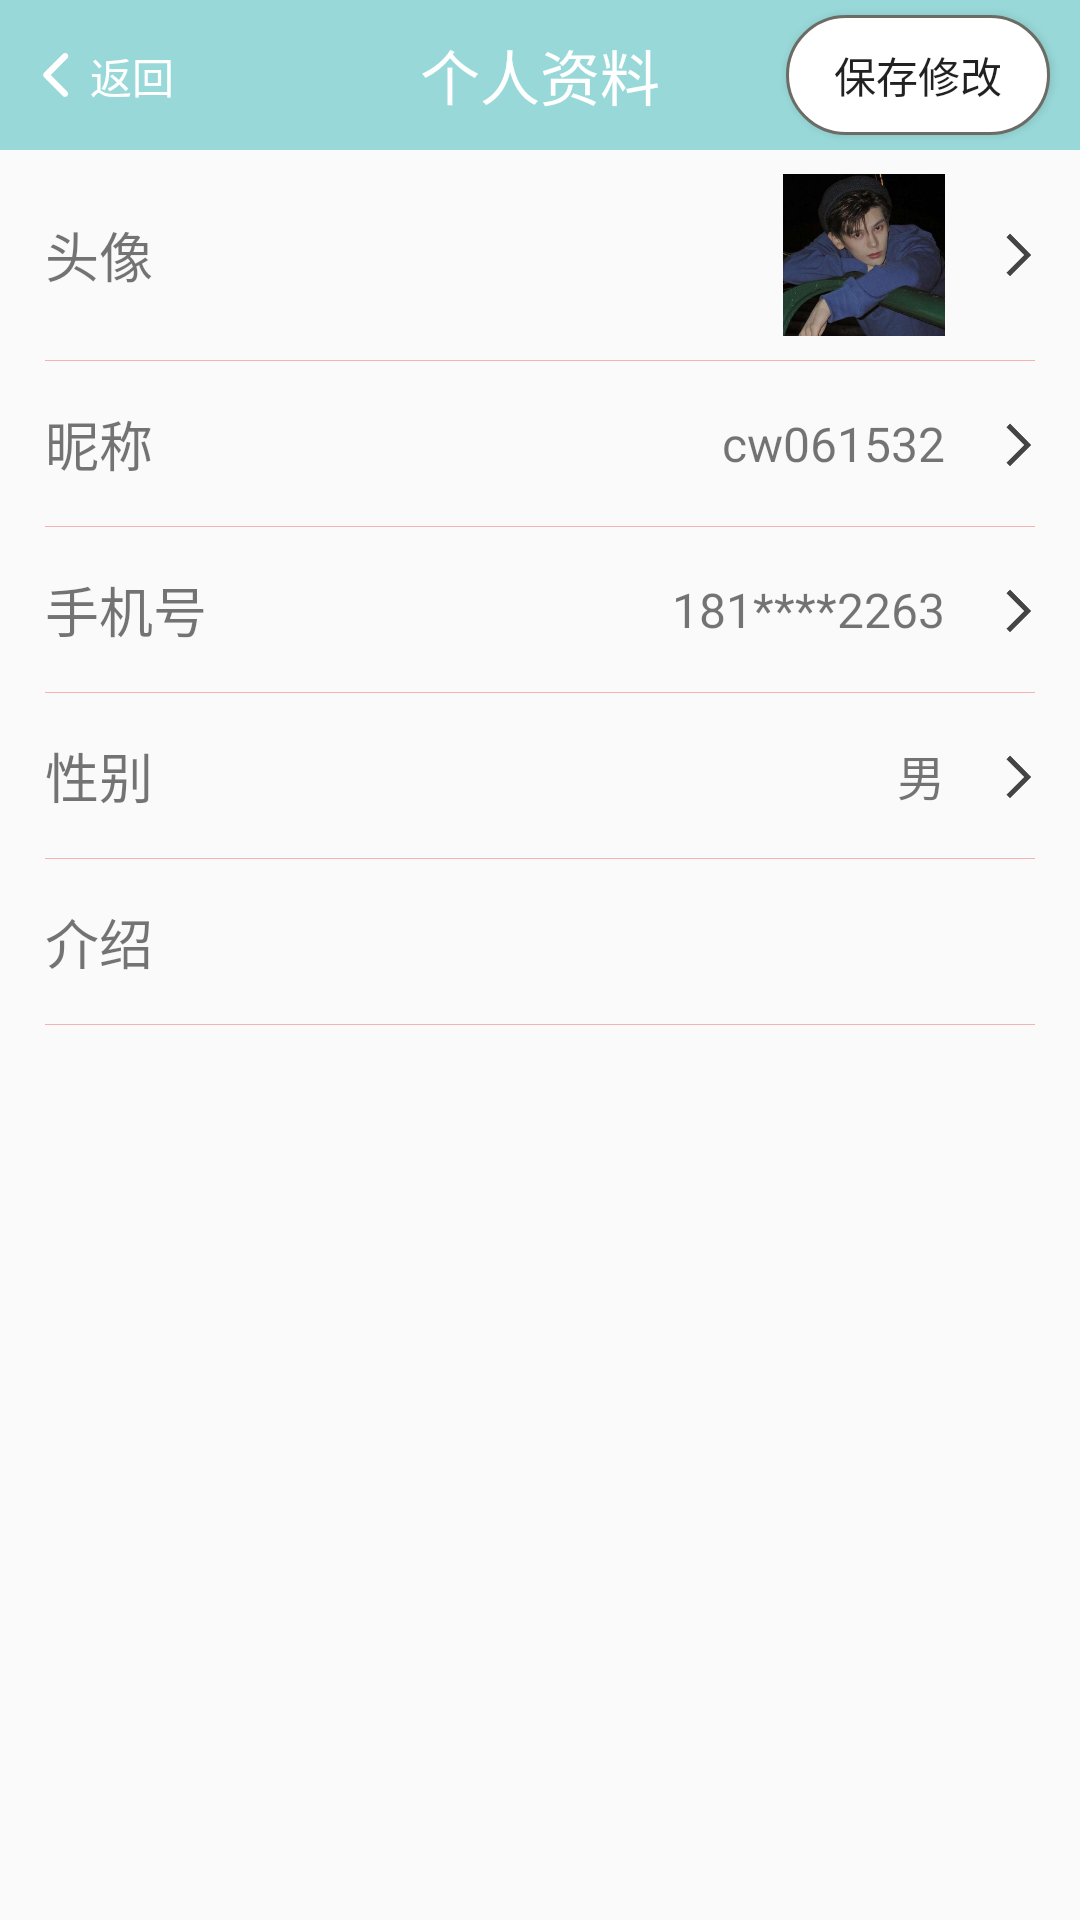

Screen size 1080*1920. Icon name, then its box in pixels as (x1, y1, x2, y2):
next: (1006, 234, 1031, 276), (1006, 424, 1031, 466), (1006, 590, 1031, 632), (1006, 756, 1031, 798)
